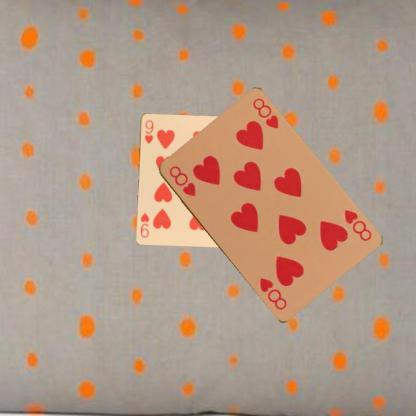8h: (341, 206, 373, 243), (165, 163, 197, 198)
9h: (141, 118, 155, 144)
